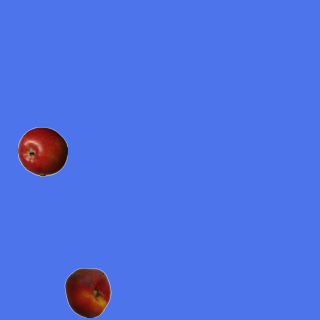Apple Braeburn: (17, 126, 67, 176)
Nectarine Flat: (62, 267, 112, 317)
